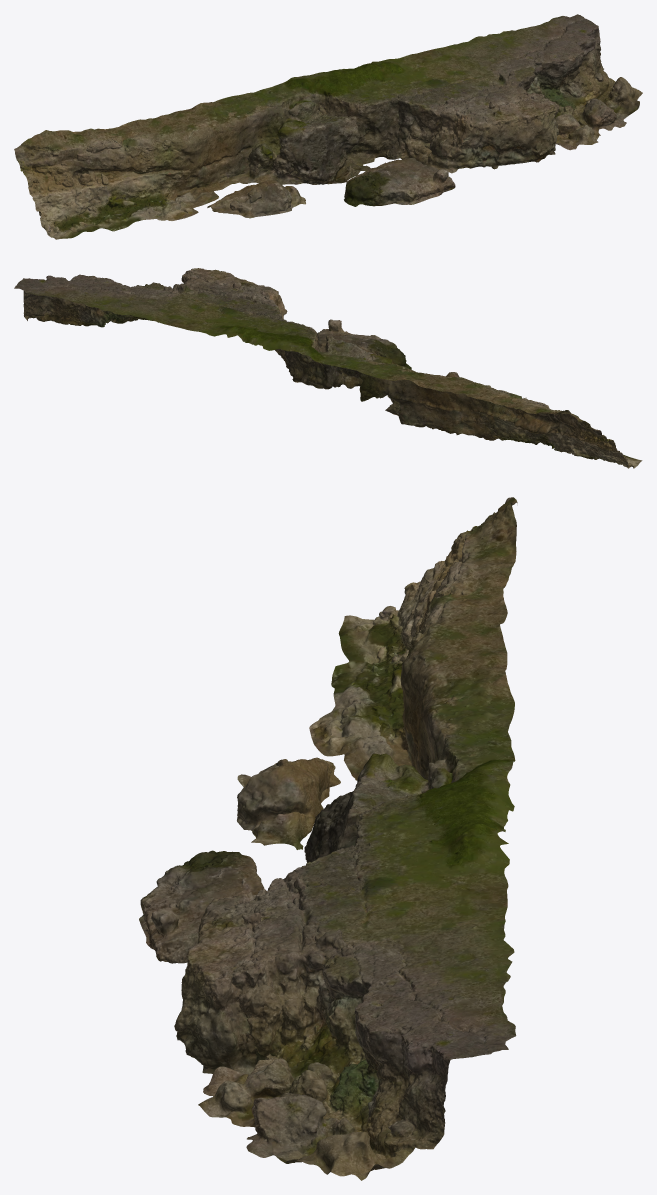
The model's file is coastal_cliff_04.glb.
The picture shows the model from 3 angles, top to bottom: view 1: azimuth 30°, elevation 25°; view 2: azimuth 150°, elevation 25°; view 3: azimuth 270°, elevation 25°; orthographic projection. The views are drawn at different scales.
Visible parts, largest first — view 1: coastal_cliff_04; view 2: coastal_cliff_04; view 3: coastal_cliff_04.
Part boxes in pixels (left/top/right/bottom): coastal_cliff_04: left=14, top=14, right=642, bottom=239; coastal_cliff_04: left=14, top=268, right=642, bottom=468; coastal_cliff_04: left=139, top=497, right=517, bottom=1180.
Size of the model in its own units: 86.77 by 11 by 24.25.
Materials: 1 (1 with a texture image).
